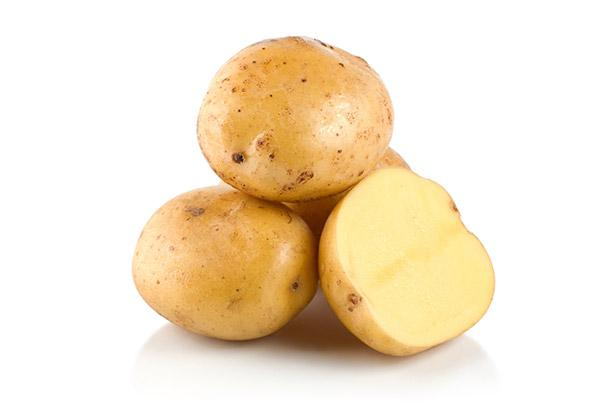potato: (180, 17, 372, 131), (118, 118, 296, 224)
